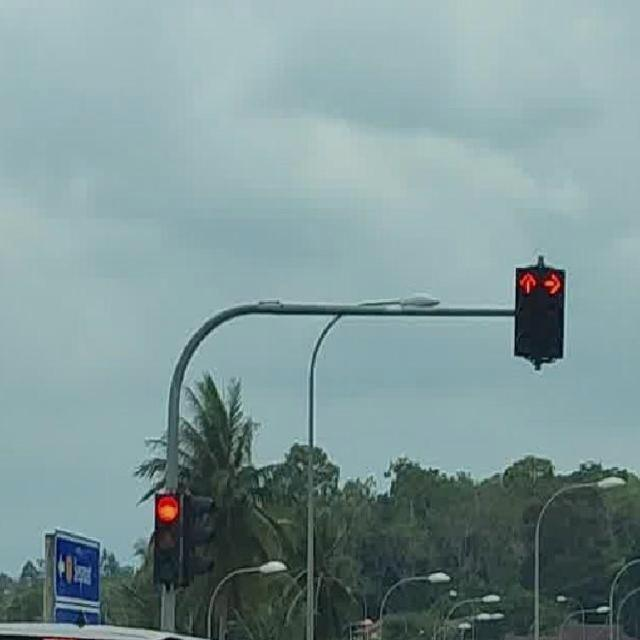Red: (514, 264, 542, 356), (538, 266, 564, 360), (152, 492, 178, 580)
